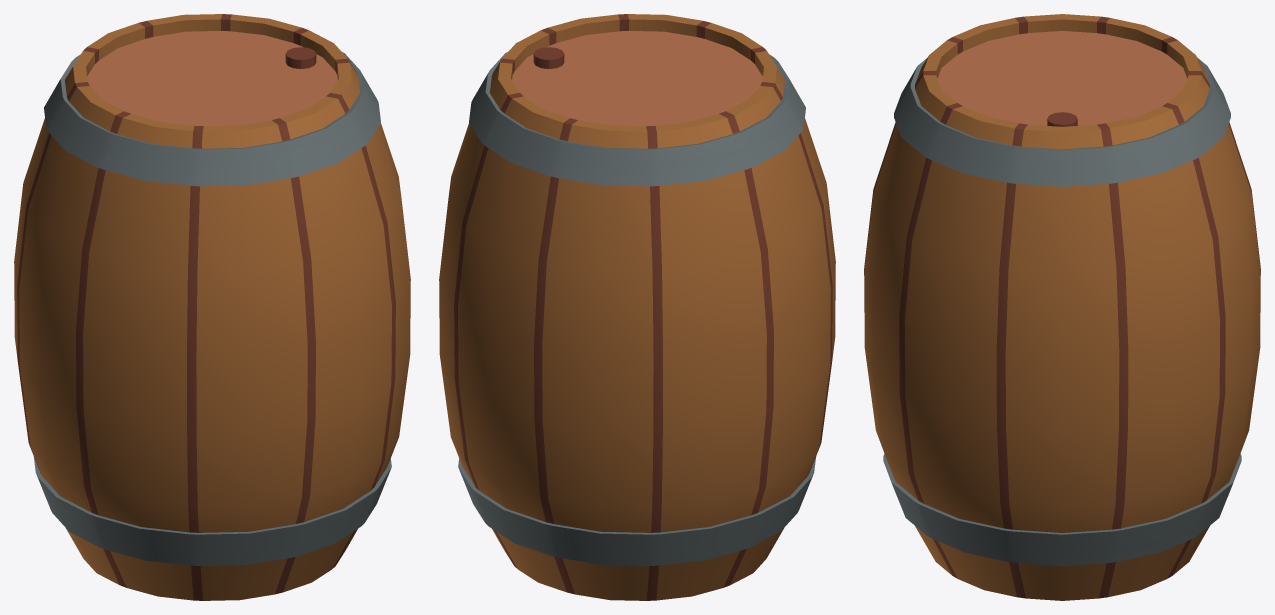
Rendered from Barrel.fbx.
3 renders of one model, left to right at view 1: azimuth 30°, elevation 25°; view 2: azimuth 150°, elevation 25°; view 3: azimuth 270°, elevation 25°, orthographic.
Parts seen in each view (by area): view 1: barrel.001; view 2: barrel.001; view 3: barrel.001.
Boxes of the visible parts, <box> form: barrel.001: <box>14,14,410,600</box>; barrel.001: <box>439,14,835,600</box>; barrel.001: <box>864,14,1260,600</box>.
Size of the model in its own units: 0.1344 by 0.1755 by 0.1339.
